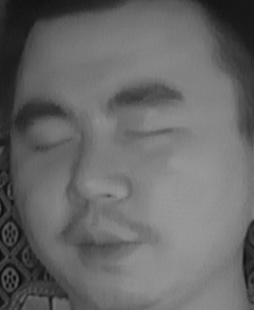blink: (121, 112, 178, 151), (24, 124, 79, 161)
mouth: (64, 216, 148, 273)
